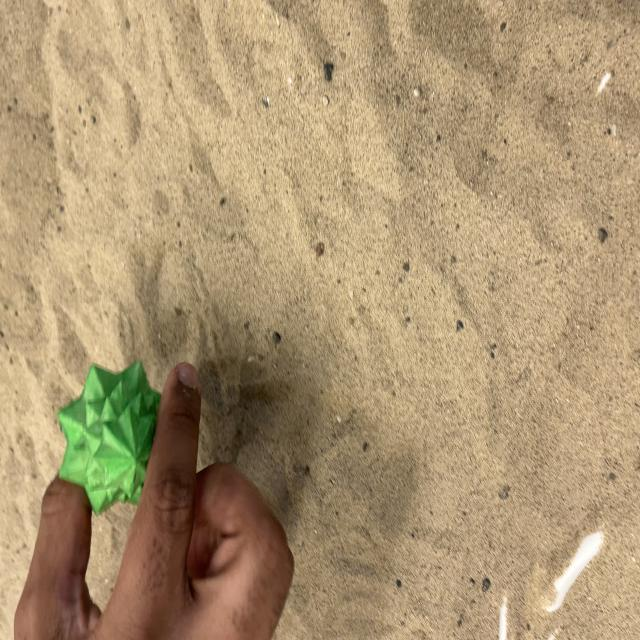tree: (56, 358, 163, 516)
